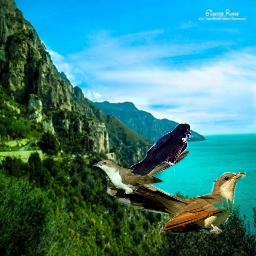Crow: (130, 123, 191, 176)
Cuckoo: (106, 172, 246, 234), (92, 150, 189, 194)
